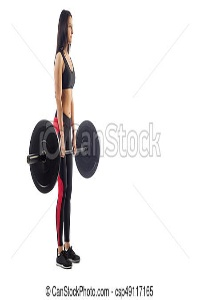barbell: (23, 118, 63, 195)
